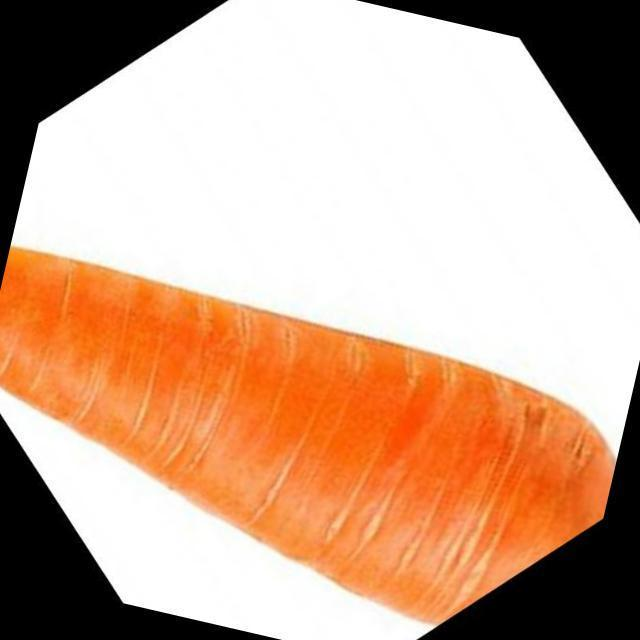Carrot: (0, 249, 612, 621)
